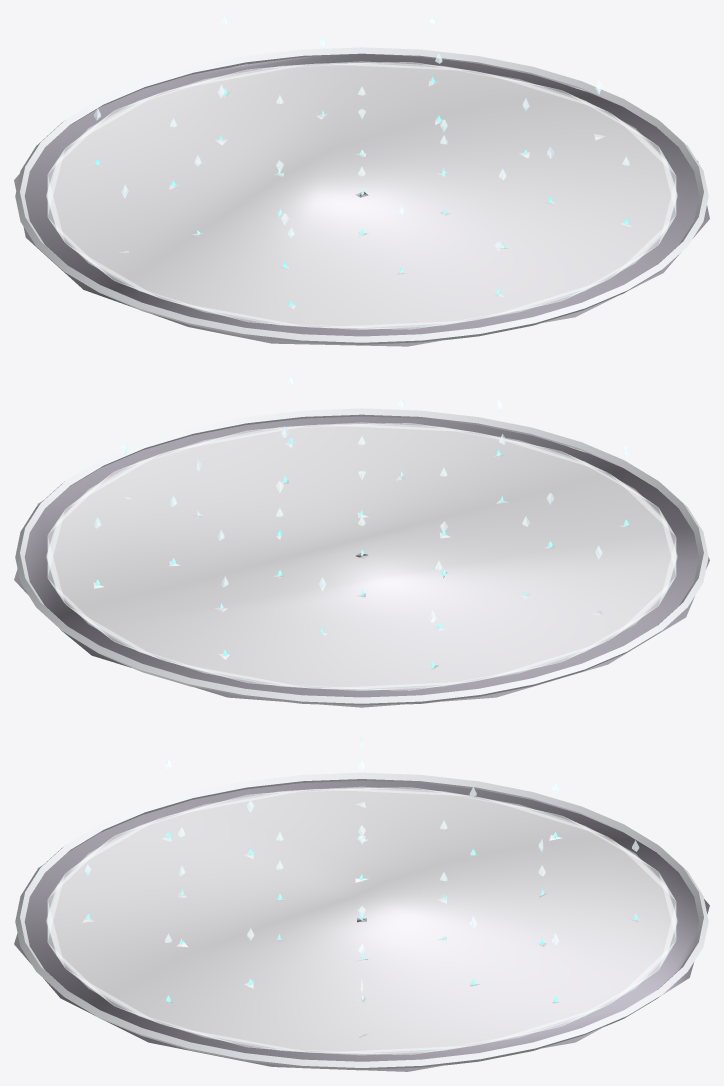
Rendered from lod_ground_fountain_jets.glb.
The picture shows the model from 3 angles, top to bottom: view 1: azimuth 30°, elevation 25°; view 2: azimuth 150°, elevation 25°; view 3: azimuth 270°, elevation 25°; orthographic projection.
Parts seen in each view (by area): view 1: ground_fountain_jets; view 2: ground_fountain_jets; view 3: ground_fountain_jets.
Boxes of the visible parts, x1,y1,x2,y2 form: ground_fountain_jets: [14, 14, 709, 346]; ground_fountain_jets: [14, 376, 709, 707]; ground_fountain_jets: [14, 737, 709, 1071].
Size of the model in its own units: 6.61 by 0.9566 by 6.61.
